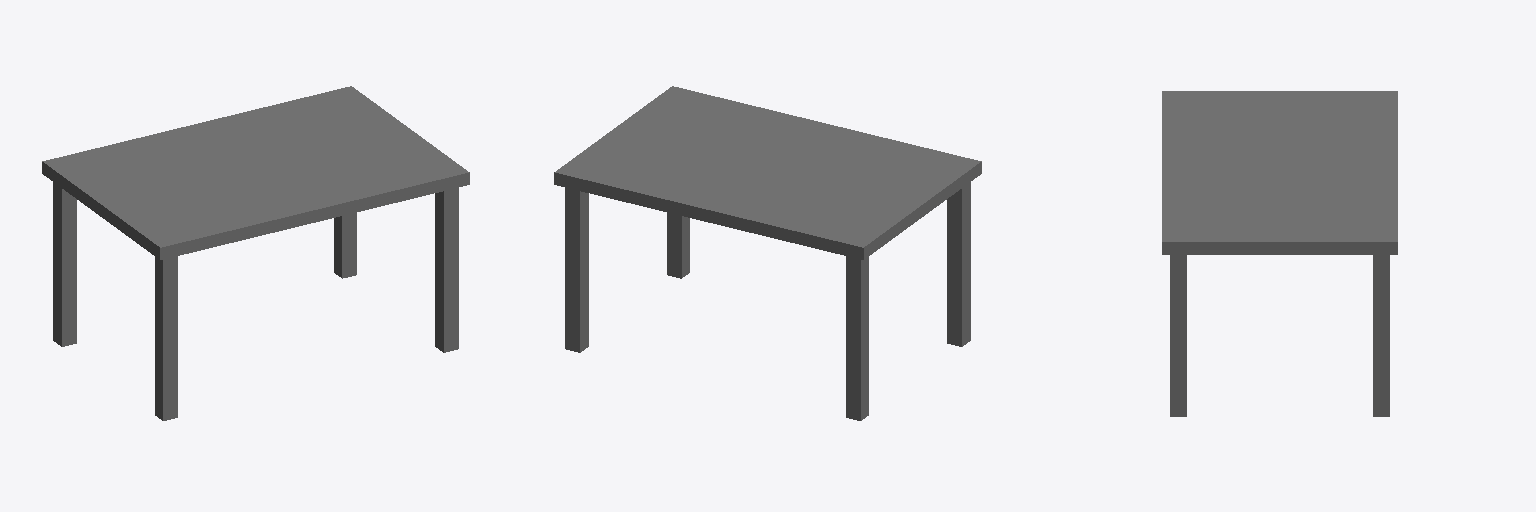
File: Table.obj
3 views of the same model, side by side, from view 1: azimuth 30°, elevation 25°; view 2: azimuth 150°, elevation 25°; view 3: azimuth 270°, elevation 25° (orthographic).
Visible parts, largest first — view 1: pCube6; view 2: pCube6; view 3: pCube6.
Boxes of the visible parts, box(x1,y1,x2,y2) form: pCube6: box(42, 86, 469, 420); pCube6: box(554, 86, 981, 420); pCube6: box(1162, 91, 1397, 416).
Size of the model in its own units: 3.22 by 1.77 by 2.13.